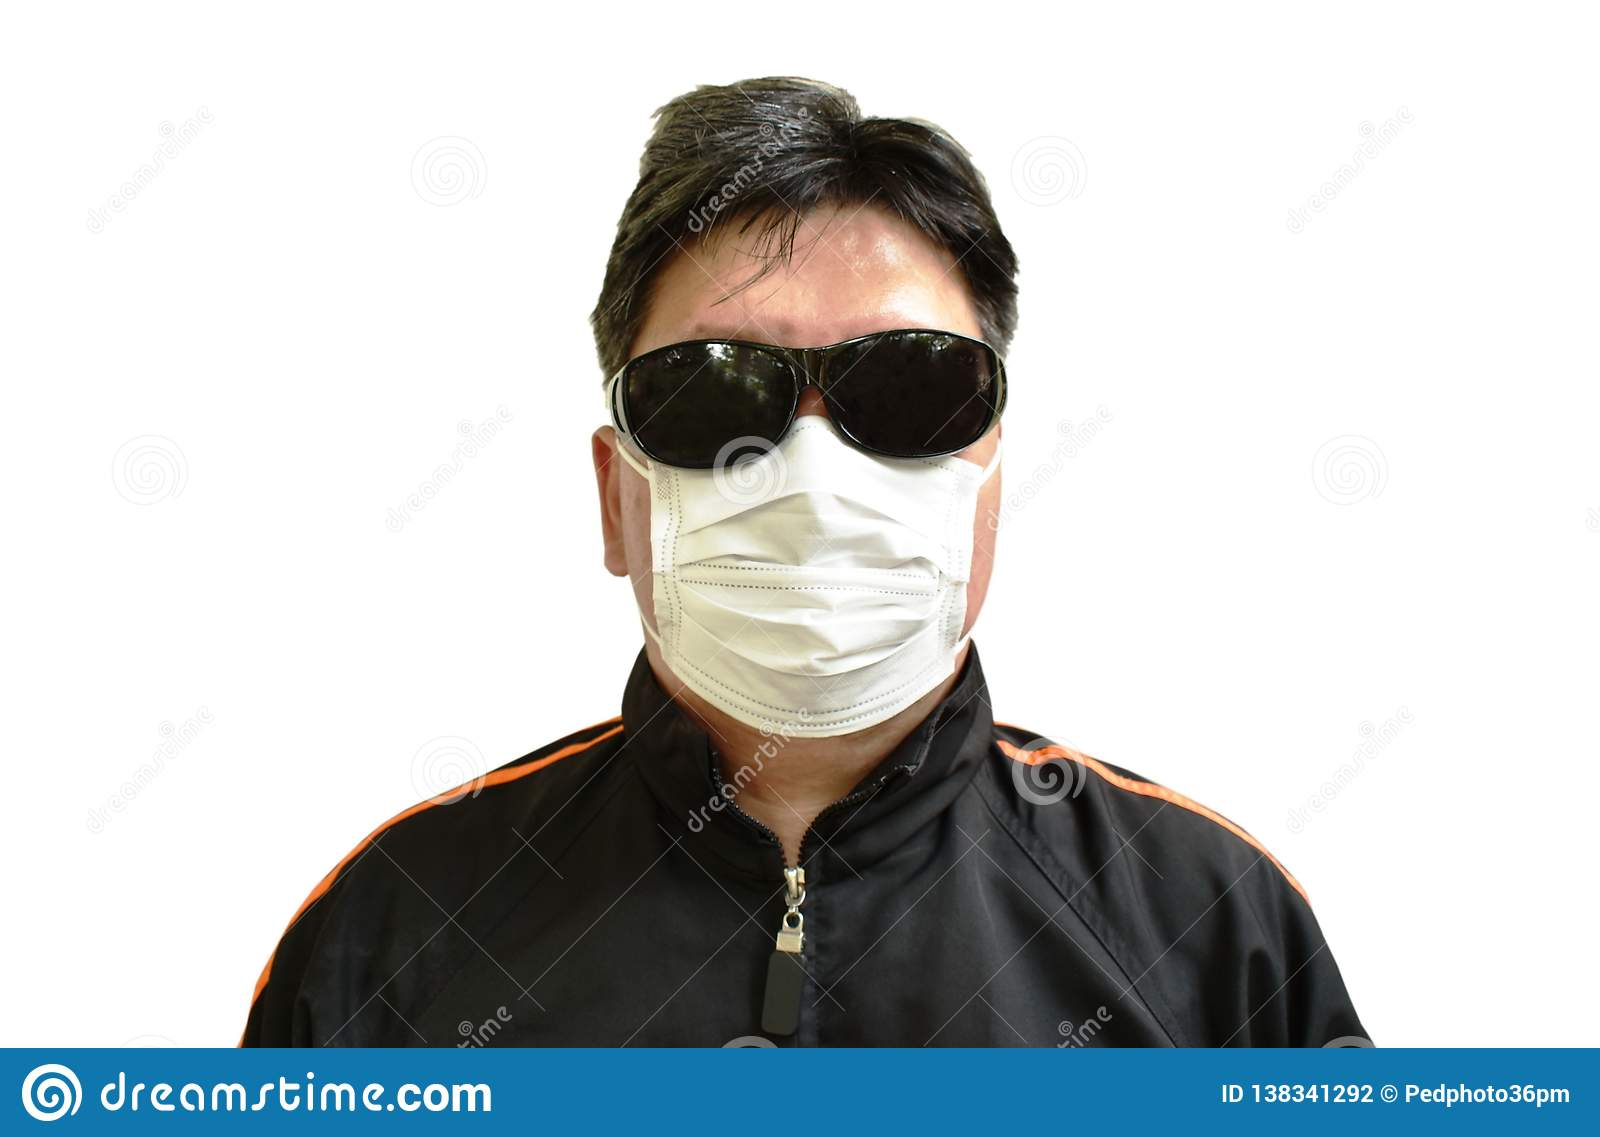mask: (641, 426, 986, 743)
